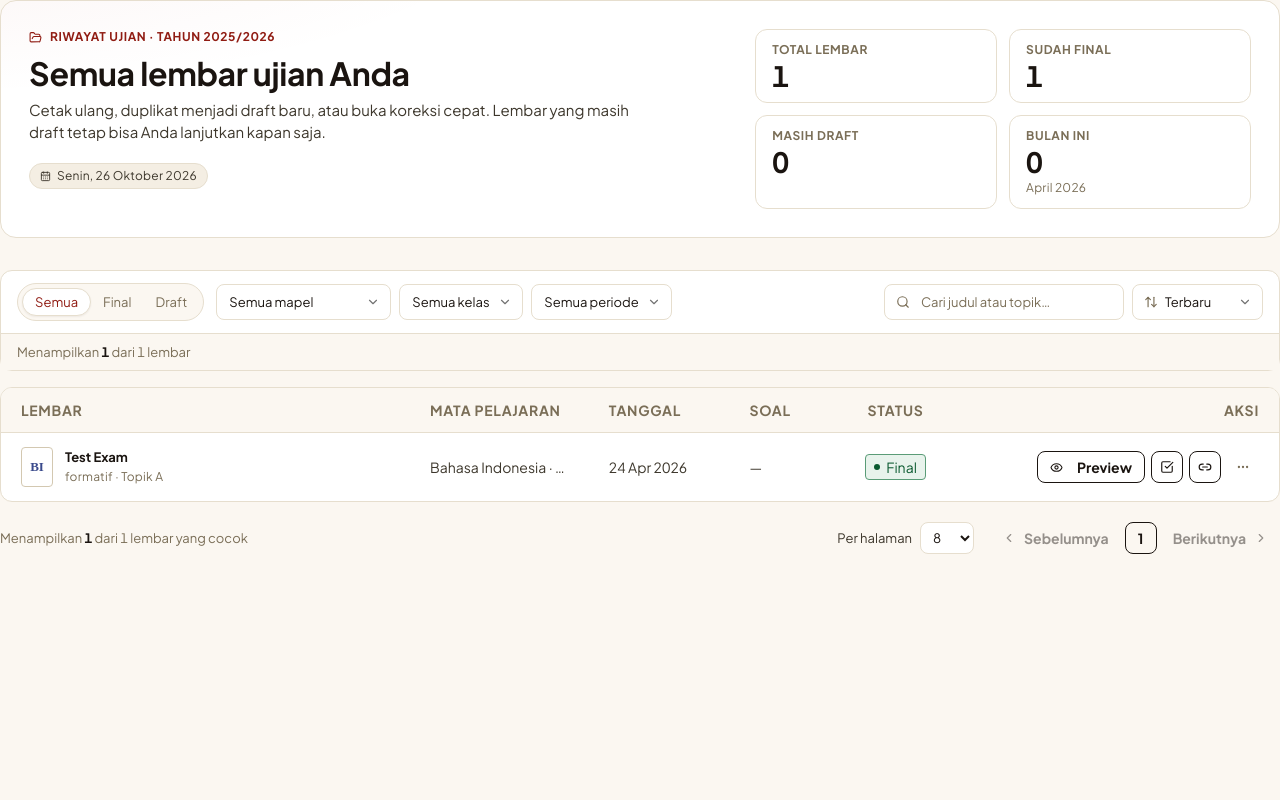
Test case: HistoryPage › clicking Hapus lembar opens confirm dialog
This screenshot has width=1280, height=800.
expect the button "Test Exam" is shown: met, box [65, 449, 163, 467]
Step 1. Click the button named "aksi lain" → (1243, 467), box [1227, 451, 1259, 483]
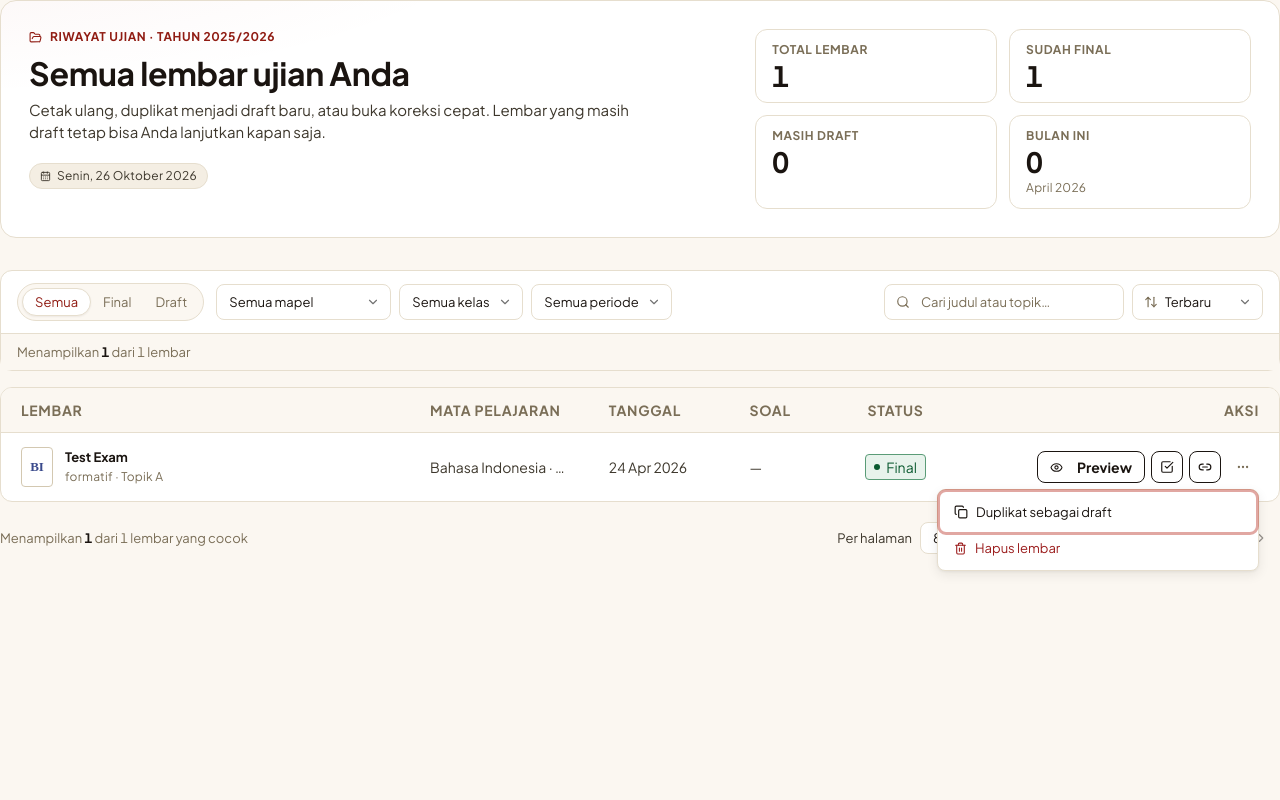
Note: Click "Hapus lembar"
Step 2. Click the menu item "Hapus lembar" → (1018, 548), box [942, 530, 1254, 566]
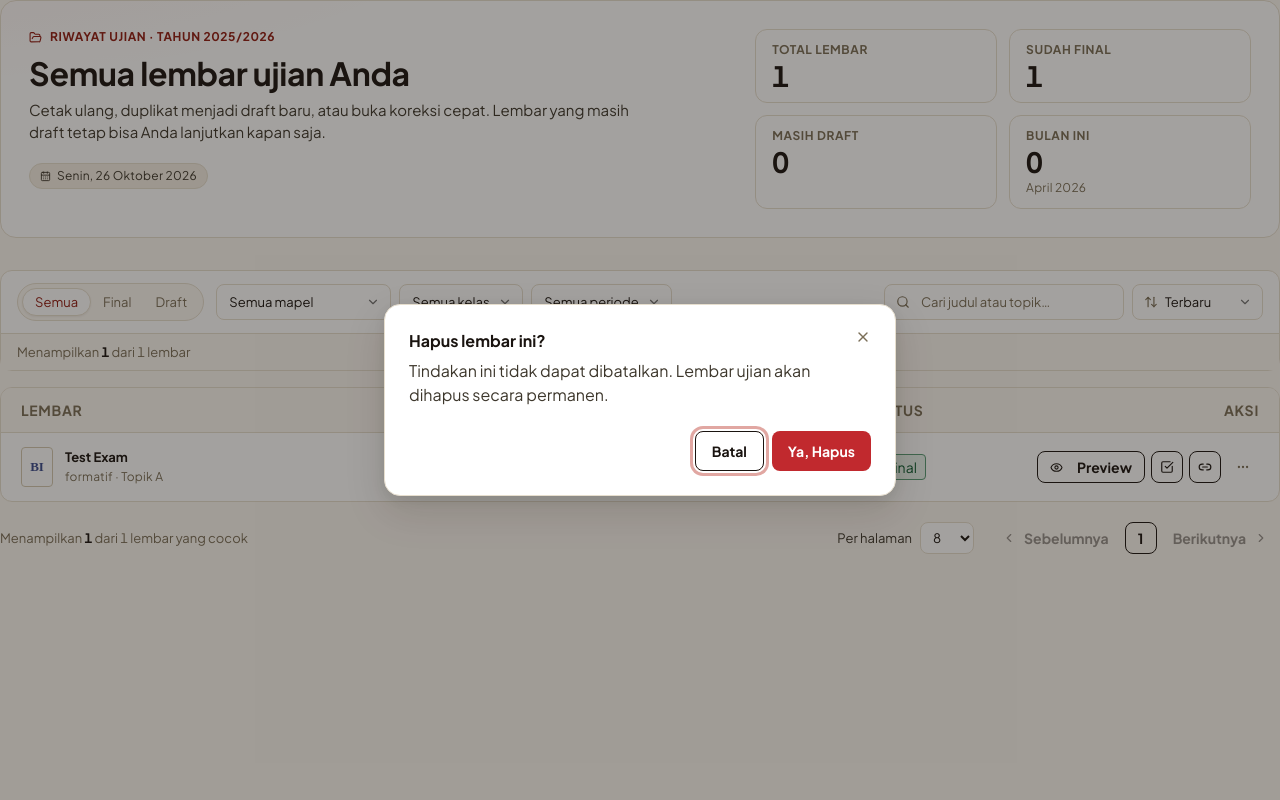
expect the heading "Hapus lembar ini?" is shown: met, box [409, 330, 546, 351]
